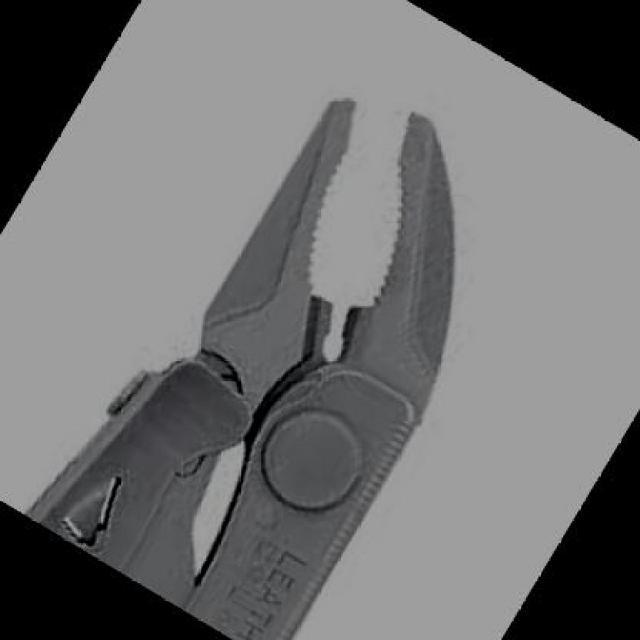pliers: (3, 27, 582, 638)
